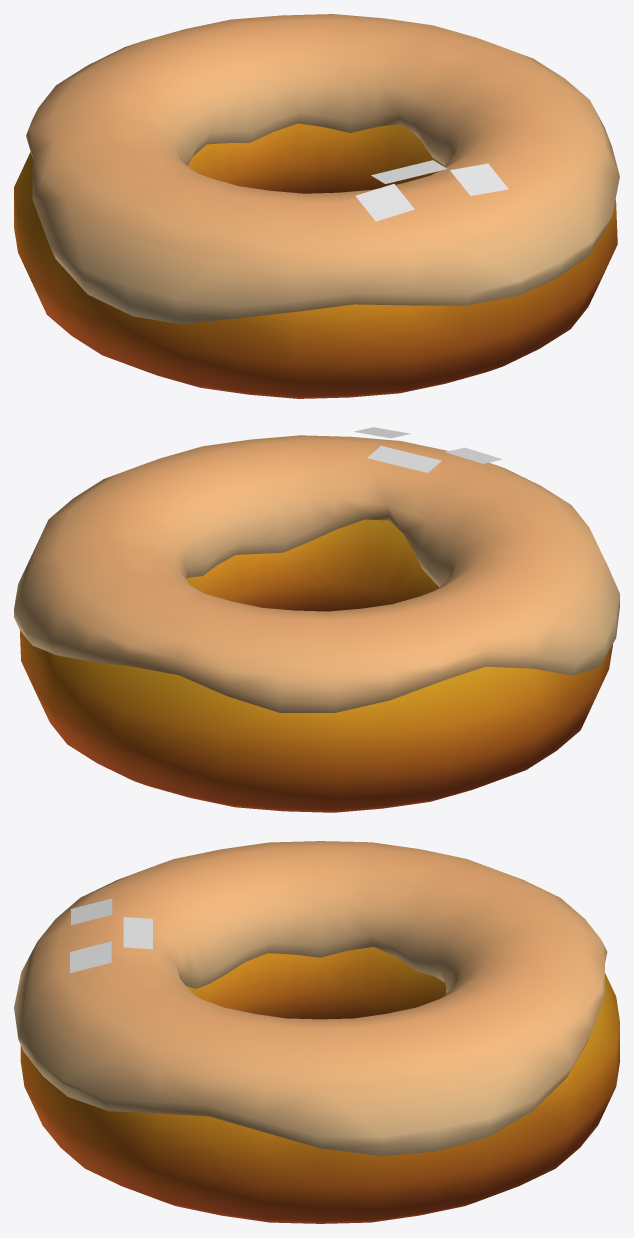
File: donut_biege_smile.fbx
The picture shows the model from 3 angles, top to bottom: view 1: azimuth 30°, elevation 25°; view 2: azimuth 150°, elevation 25°; view 3: azimuth 270°, elevation 25°; orthographic projection.
Parts seen in each view (by area): view 1: donut_biege_smile; view 2: donut_biege_smile; view 3: donut_biege_smile.
Part boxes in pixels (box(x1,y1,x2,y2)): donut_biege_smile: box(14, 14, 619, 398); donut_biege_smile: box(14, 427, 619, 812); donut_biege_smile: box(14, 841, 619, 1223).
Size of the model in its own units: 52.01 by 18.72 by 51.43.
2 materials, 1 textured.
